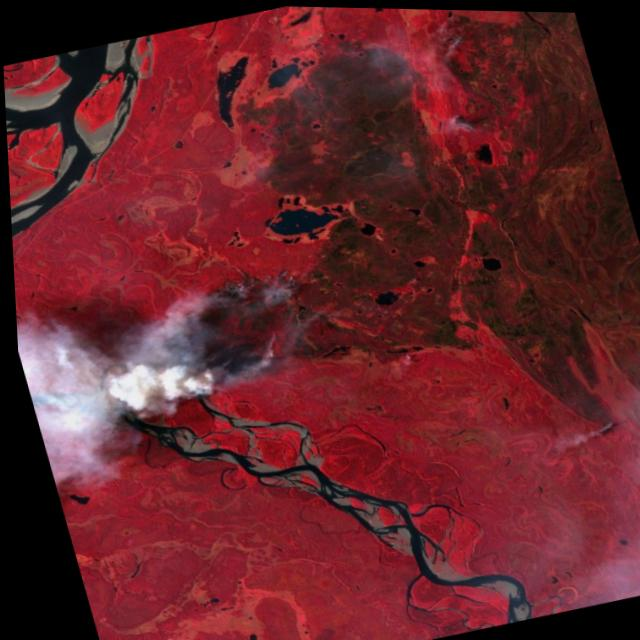fire: (74, 152, 389, 411), (404, 7, 524, 156), (557, 408, 625, 462)
